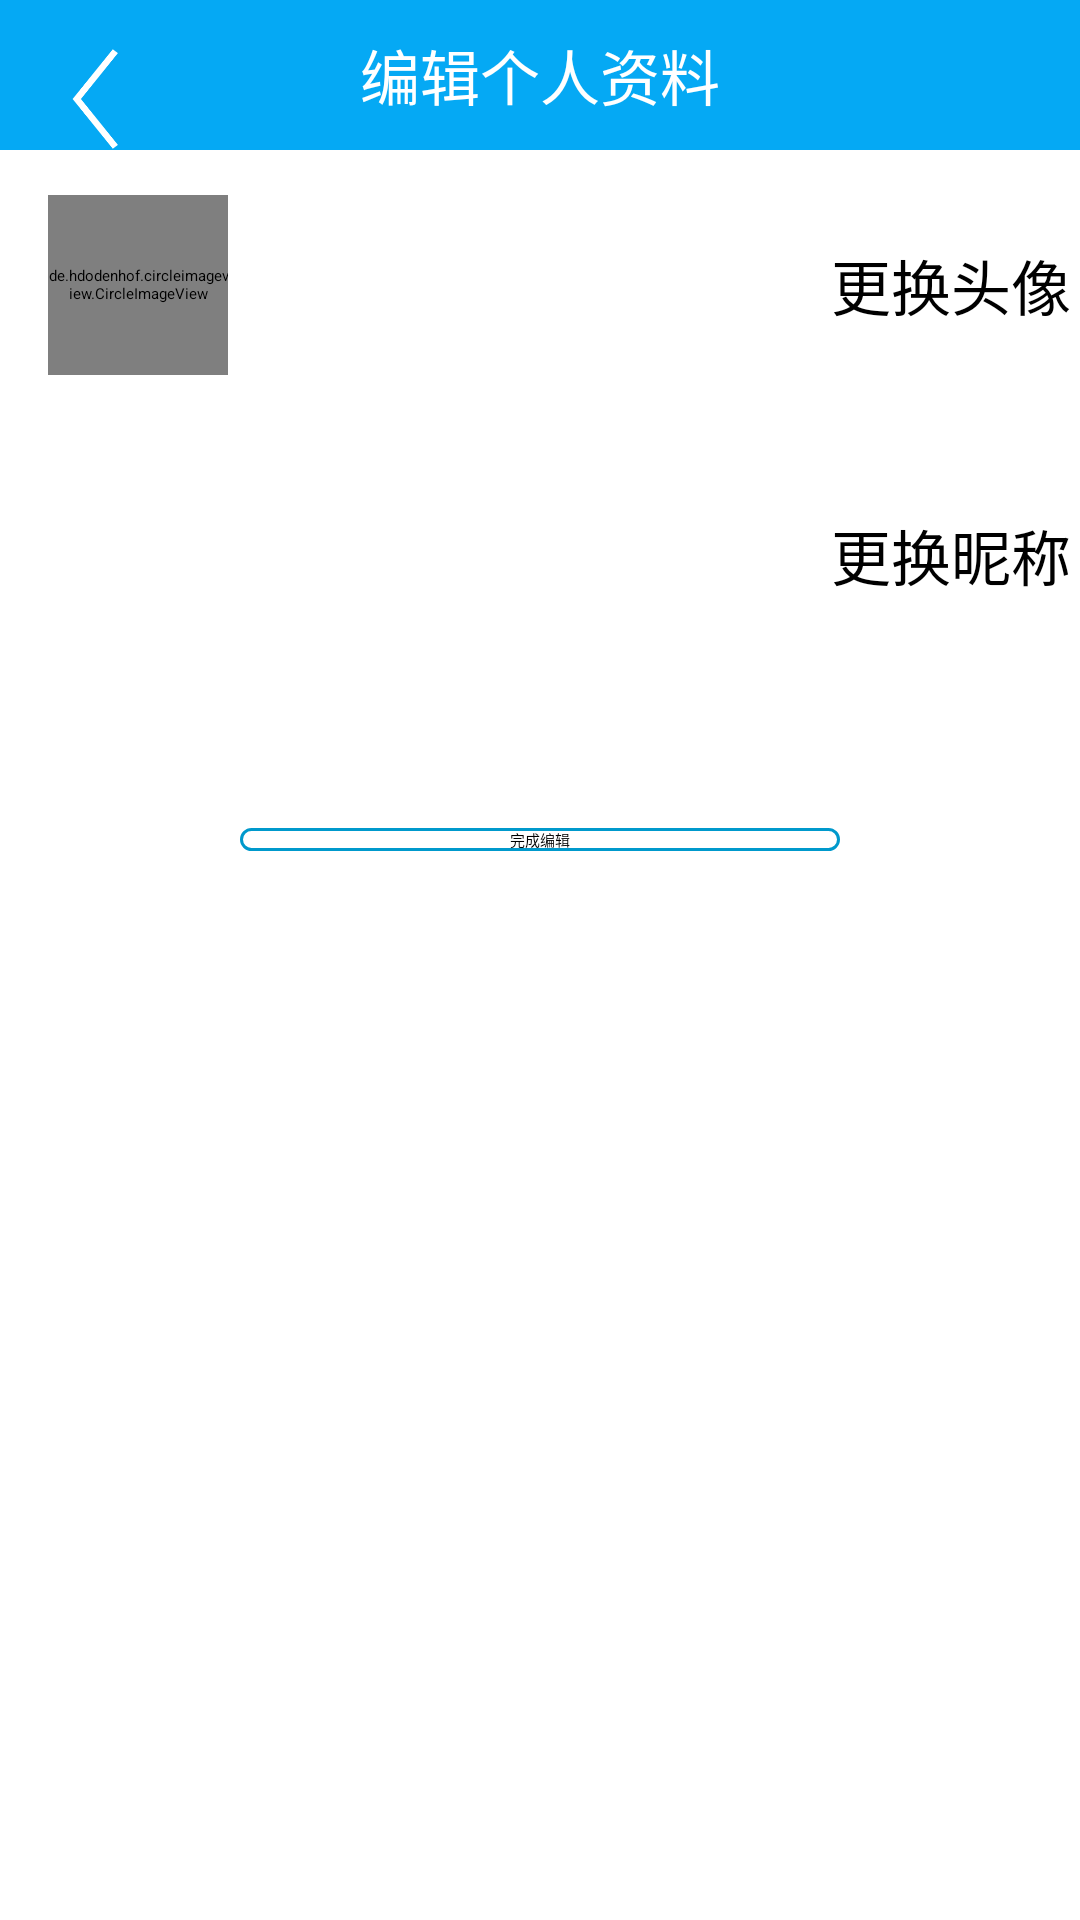

Where to tap for icons on this 1080x1920 app screen, as [x,y]:
back: [95,99]
